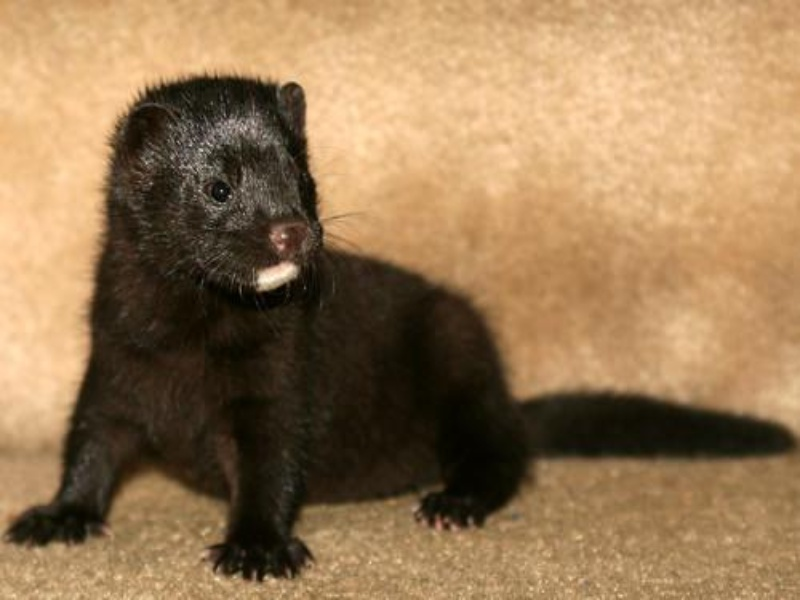minkish: (7, 62, 799, 584)
